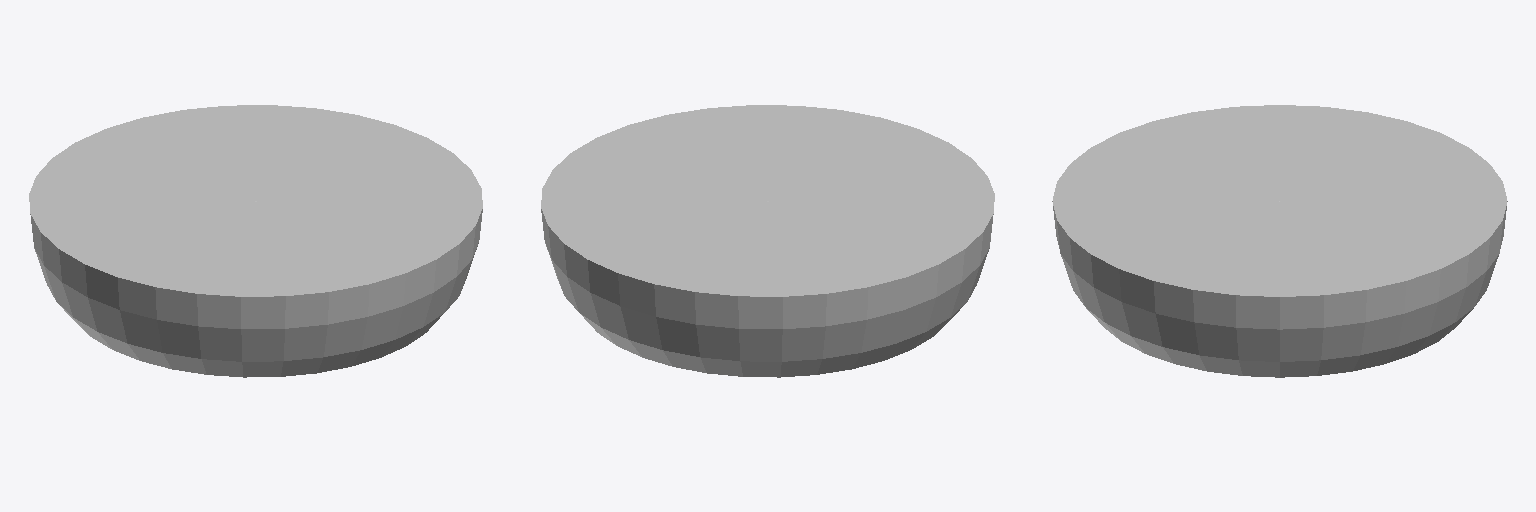
File: BorgorBottom.obj
3 views of the same model, side by side, from view 1: azimuth 30°, elevation 25°; view 2: azimuth 150°, elevation 25°; view 3: azimuth 270°, elevation 25° (orthographic).
Visible parts, largest first — view 1: BottomBun_Sphere; view 2: BottomBun_Sphere; view 3: BottomBun_Sphere.
Boxes of the visible parts, <box> form: BottomBun_Sphere: <box>29,105,482,377</box>; BottomBun_Sphere: <box>541,105,994,377</box>; BottomBun_Sphere: <box>1052,105,1507,377</box>.
Size of the model in its own units: 1.99 by 0.5318 by 1.99.